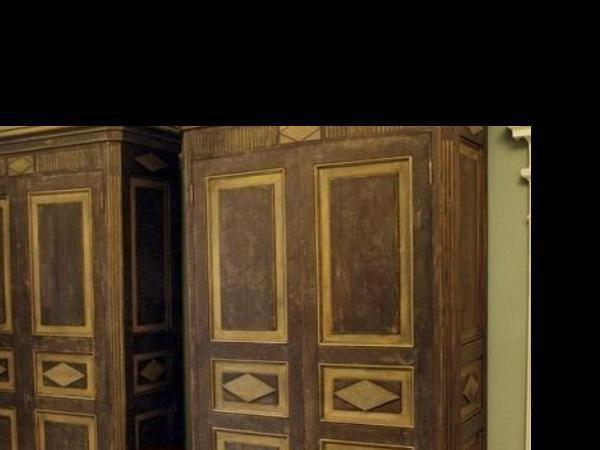Armario: (174, 97, 496, 450), (0, 110, 171, 450)
